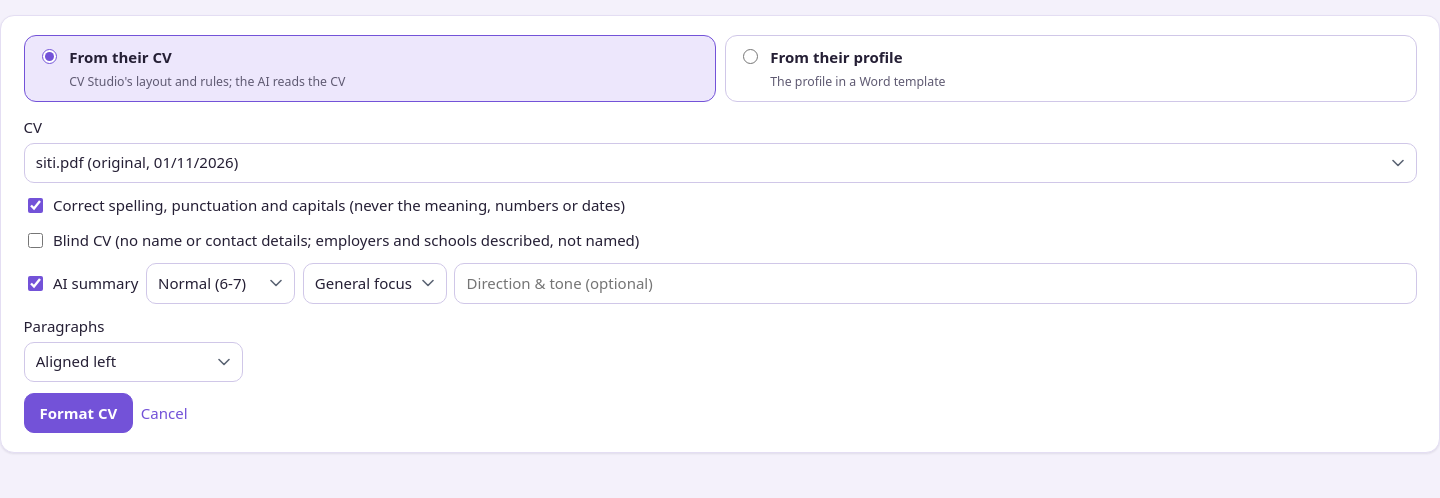
Test case: formatted CVs › shows why a direction about pay is refused, next to it
In the field named "Direction and tone": [935, 283] box 454,263 -> 1416,304, type "mention RM 9,000"
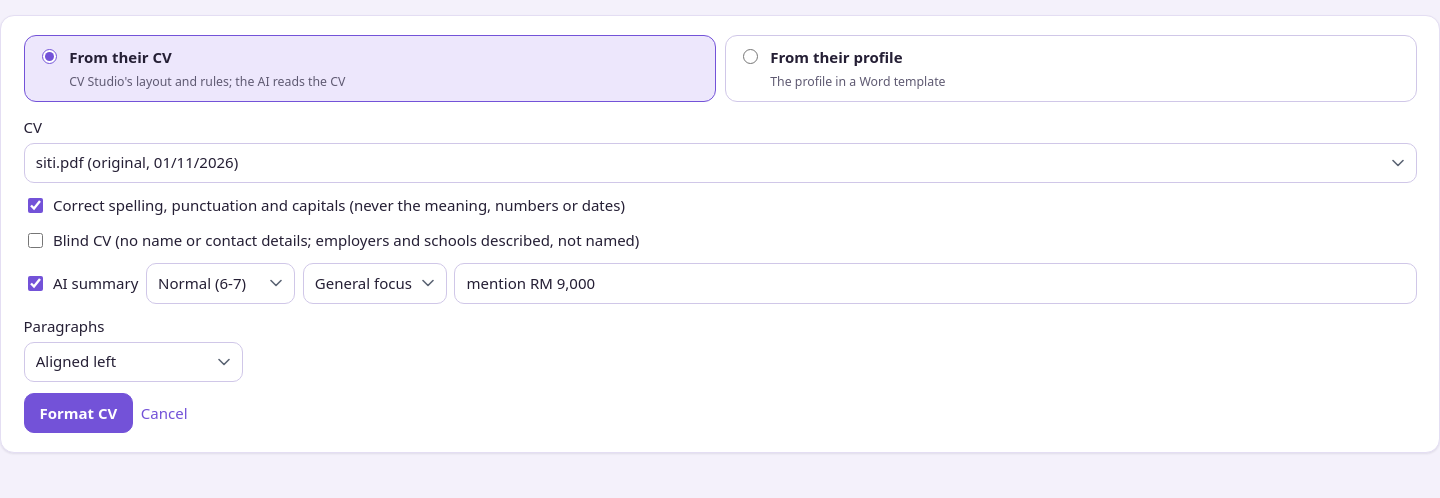
Click the button "Format CV": [78, 413] box 24,393 -> 133,433
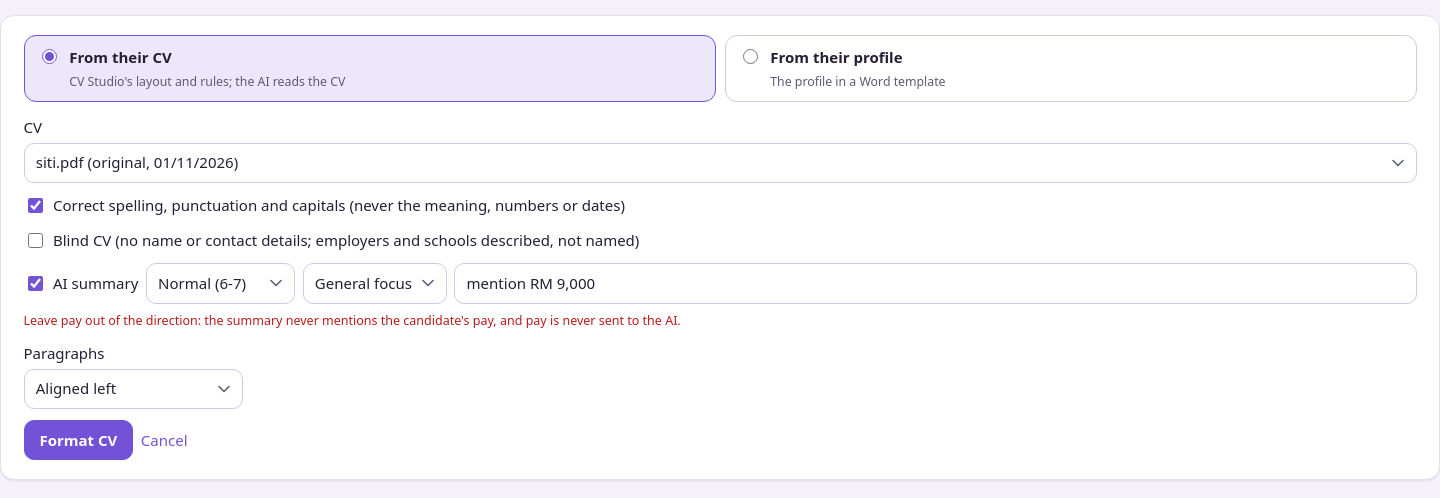
Expected: the text "Leave pay out of the direction" is shown, 24,312 -> 681,329
